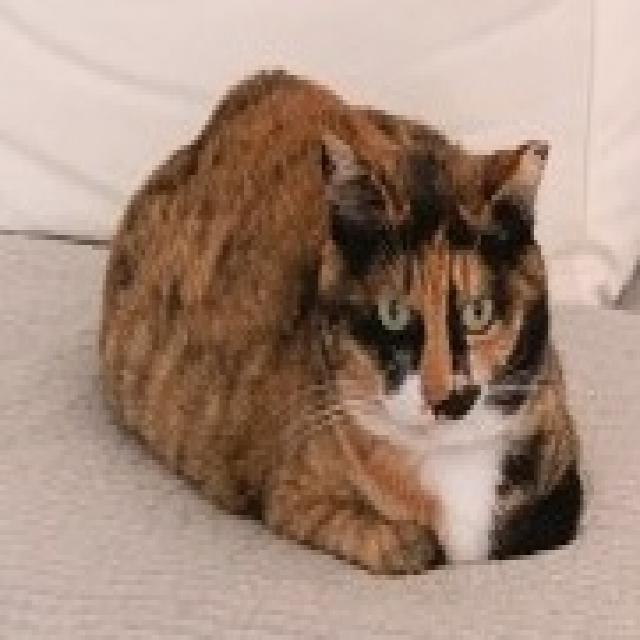cat: (95, 60, 593, 579)
